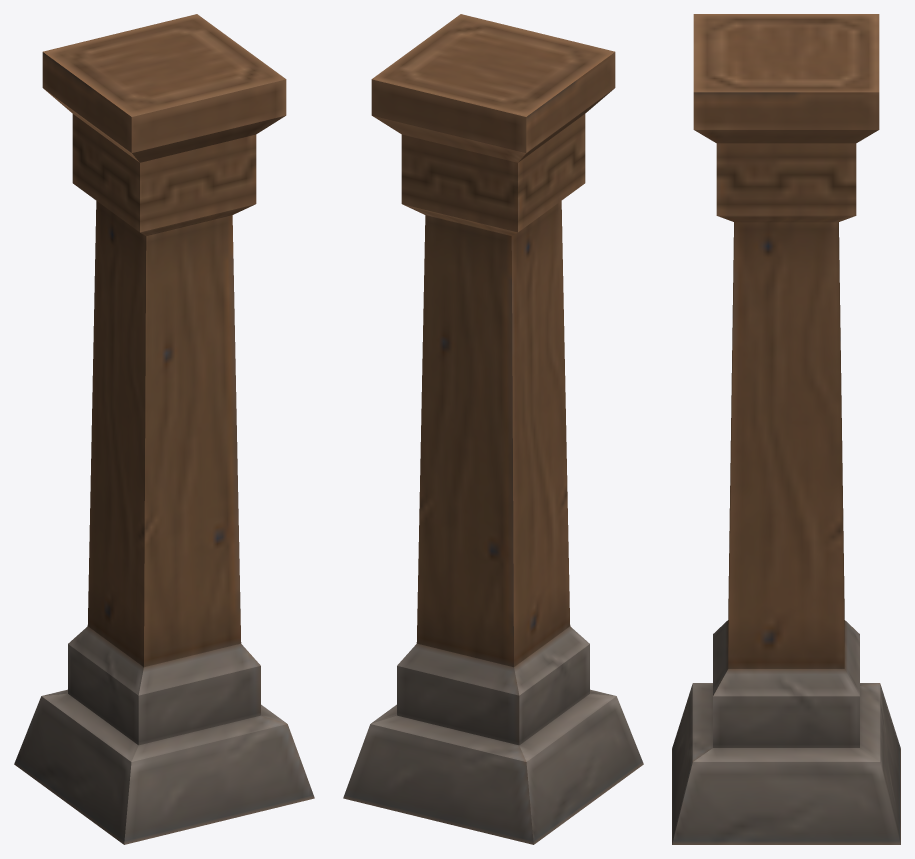
The model's file is wood_pillar.FBX.
3 renders of one model, left to right at view 1: azimuth 30°, elevation 25°; view 2: azimuth 150°, elevation 25°; view 3: azimuth 270°, elevation 25°, orthographic. The views are drawn at different scales.
Parts seen in each view (by area): view 1: Object143; view 2: Object143; view 3: Object143.
Boxes of the visible parts, bbox=[...] form: Object143: bbox=[14, 14, 314, 844]; Object143: bbox=[343, 14, 643, 844]; Object143: bbox=[672, 14, 900, 844].
Bounding box in the file's own units: 0.6818 × 2.45 × 0.6818.
